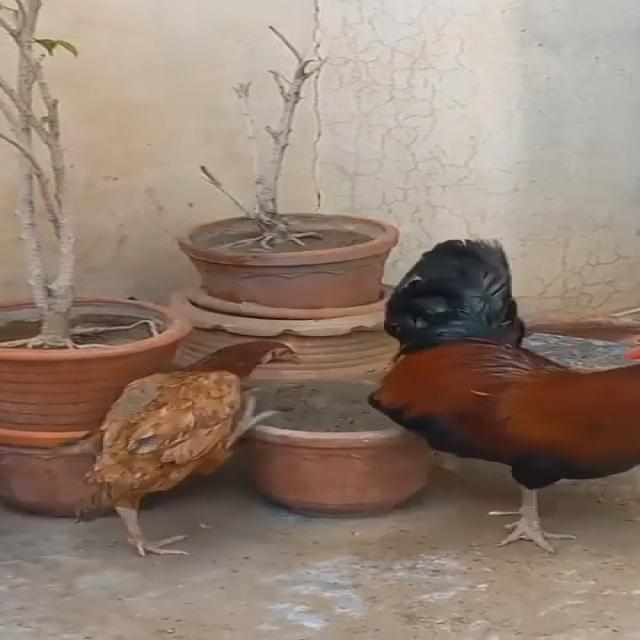stand bath: (96, 314, 302, 570)
